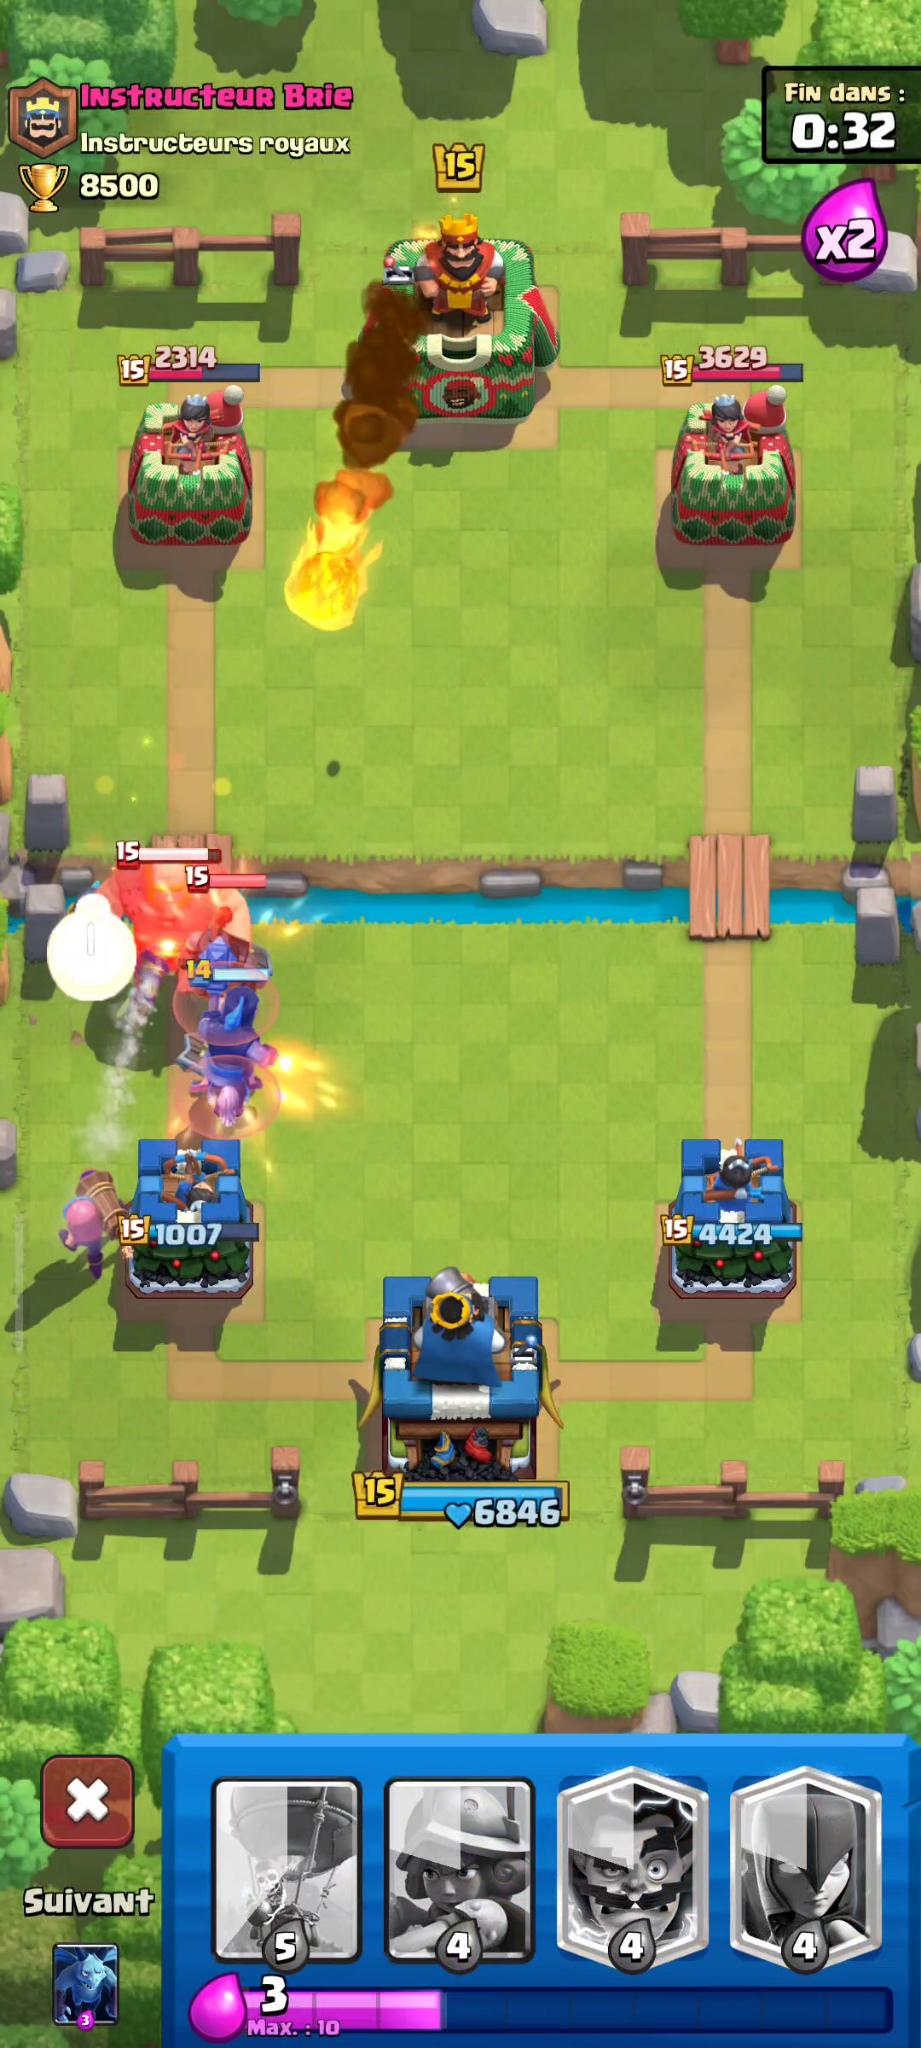geant: (110, 846, 267, 1012)
